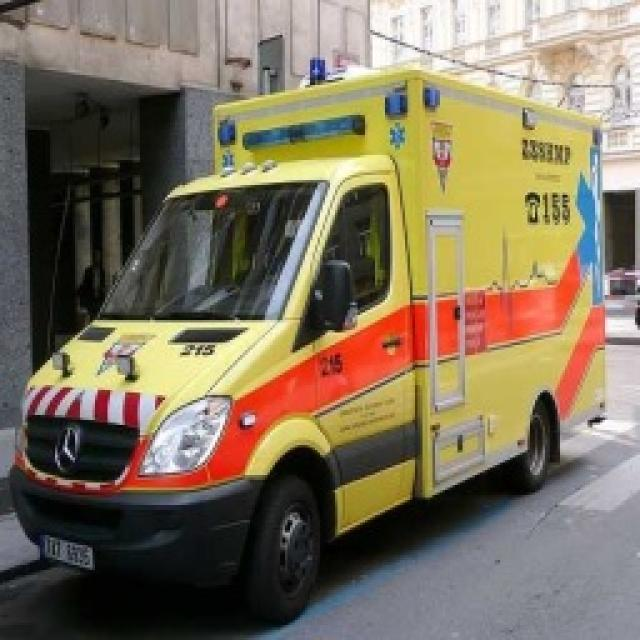emergency-vehicle: (0, 43, 640, 608)
